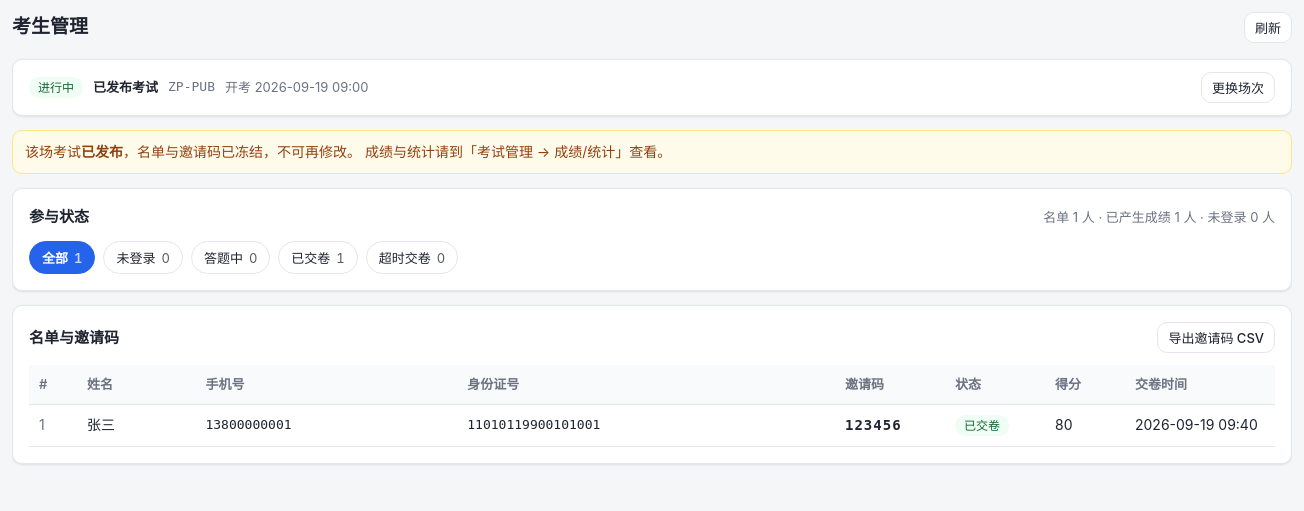
参与状态查询（CH-010） › 无该状态考生时给出空态
Click the button with class "chip" showing "未登录 0".
click(143, 258)  # box x1=103 y1=241 x2=183 y2=274
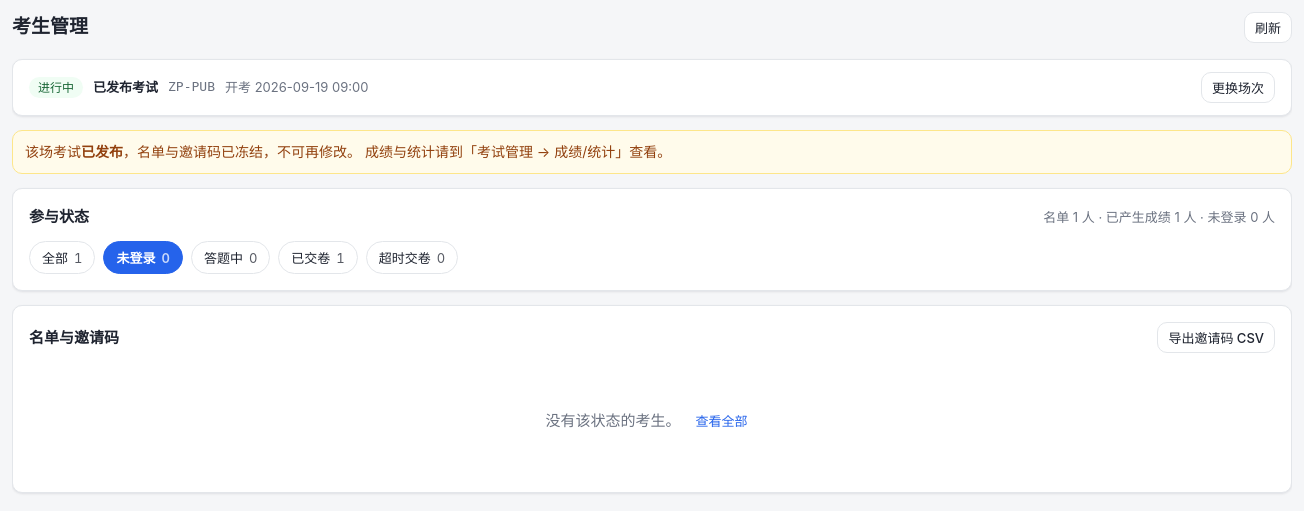
Now the text "没有该状态的考生" is shown, box x1=545 y1=411 x2=685 y2=430
